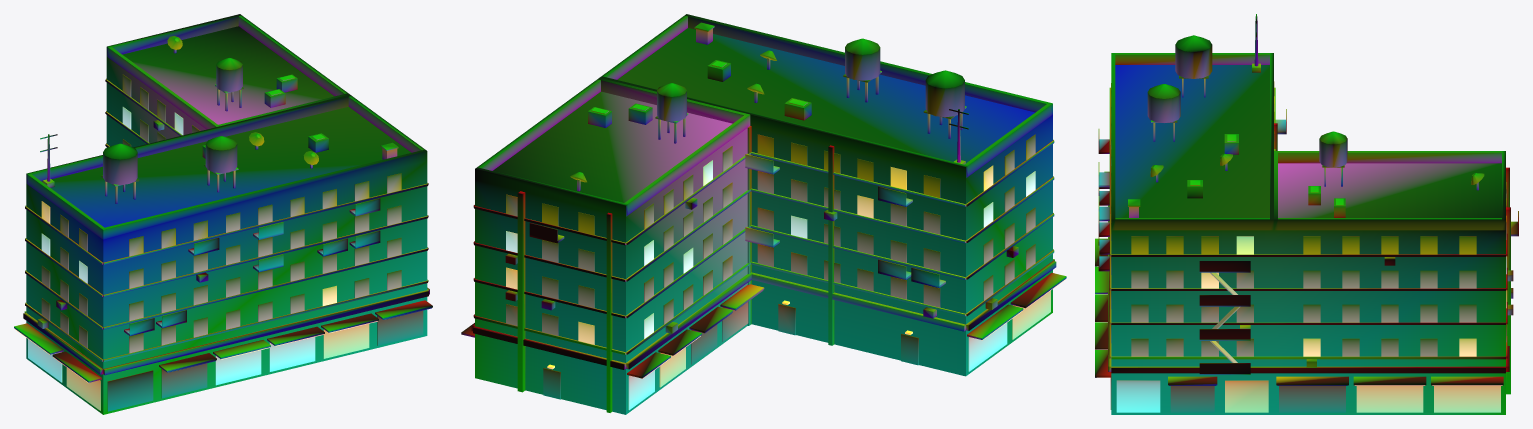
File: Block_Corner_V5.fbx
3 renders of one model, left to right at view 1: azimuth 30°, elevation 25°; view 2: azimuth 150°, elevation 25°; view 3: azimuth 270°, elevation 25°, orthographic. The views are drawn at different scales.
Visible parts, largest first — view 1: Block_Corner_V5_LOD0; view 2: Block_Corner_V5_LOD0; view 3: Block_Corner_V5_LOD0.
Part boxes in pixels (x1,y1,x2,y2): Block_Corner_V5_LOD0: (14,14,432,414); Block_Corner_V5_LOD0: (461,14,1066,414); Block_Corner_V5_LOD0: (1095,14,1518,414).
Size of what is drawn, in the model's own units: 37.1 by 22.9 by 36.5.
